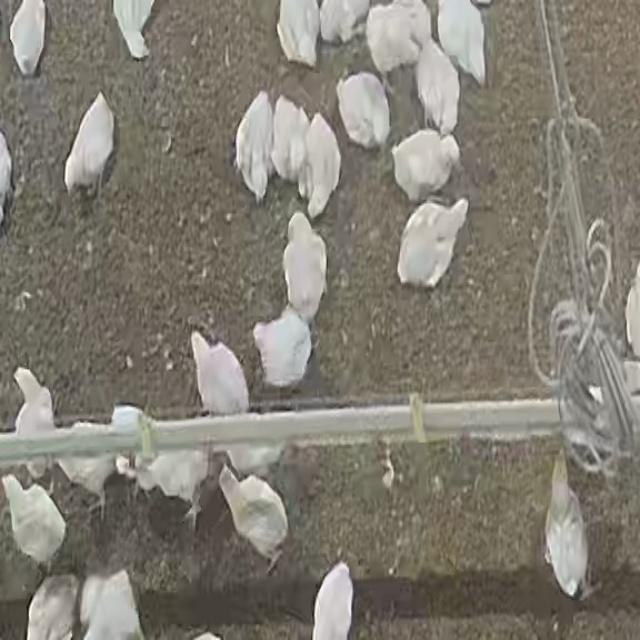chicken: (217, 464, 288, 567), (543, 455, 589, 599), (398, 199, 468, 289), (2, 473, 65, 567), (53, 423, 122, 506), (137, 449, 210, 526), (64, 91, 116, 197), (12, 366, 58, 481), (390, 129, 459, 204), (364, 0, 428, 78), (79, 568, 147, 640), (191, 332, 249, 416), (252, 312, 311, 390), (414, 38, 460, 137), (233, 90, 272, 204), (336, 71, 390, 151), (435, 0, 486, 84), (284, 213, 324, 320), (310, 560, 356, 640), (25, 573, 79, 640), (303, 113, 337, 219), (272, 95, 309, 184), (10, 0, 51, 80), (275, 0, 320, 68), (113, 0, 157, 59), (319, 0, 373, 45)
